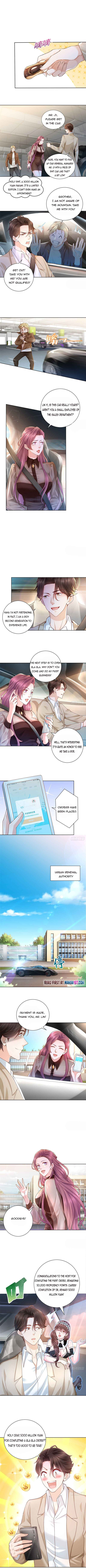bubbles: (33, 1259, 81, 1316), (3, 1418, 47, 1462), (39, 388, 81, 430), (46, 186, 82, 224), (49, 727, 85, 764), (50, 788, 80, 829), (16, 999, 51, 1032), (2, 601, 36, 634), (28, 650, 62, 682), (2, 1205, 35, 1237), (3, 258, 34, 292), (2, 175, 43, 199), (44, 152, 76, 180), (40, 109, 66, 131), (49, 865, 81, 882)
